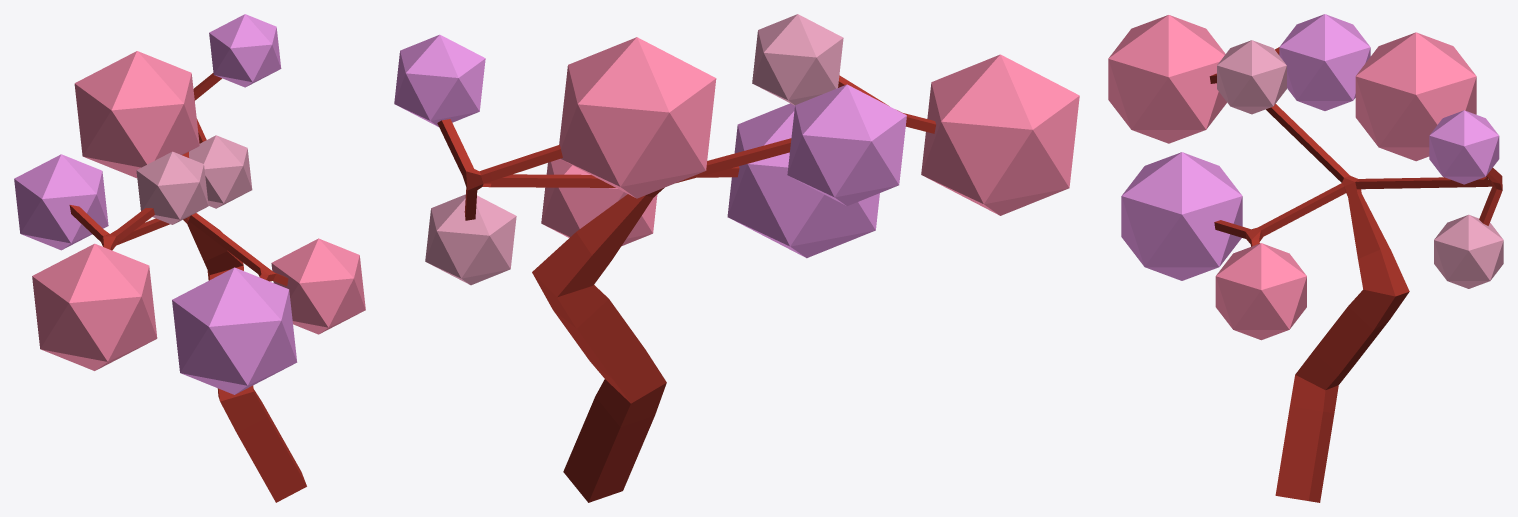
The model's file is LowPolySakura1.fbx.
The picture shows the model from 3 angles, left to right: view 1: azimuth 30°, elevation 25°; view 2: azimuth 150°, elevation 25°; view 3: azimuth 270°, elevation 25°; orthographic projection. The views are drawn at different scales.
Visible parts, largest first — view 1: Icosphere.002, Icosphere, Icosphere.001, Cube, Icosphere.006, Icosphere.007, Icosphere.004, Icosphere.005, Icosphere.003; view 2: Cube, Icosphere.001, Icosphere.002, Icosphere.006, Icosphere, Icosphere.004, Icosphere.005, Icosphere.003, Icosphere.007; view 3: Cube, Icosphere, Icosphere.002, Icosphere.001, Icosphere.007, Icosphere.006, Icosphere.004, Icosphere.005, Icosphere.003.
Part boxes in pixels (x1,y1,x2,y2): Icosphere.002: (32,243,157,370); Icosphere: (172,267,297,394); Icosphere.001: (74,51,199,178); Cube: (69,73,306,502); Icosphere.006: (14,154,108,250); Icosphere.007: (271,238,365,334); Icosphere.004: (209,14,281,87); Icosphere.005: (136,151,208,224); Icosphere.003: (189,135,252,208); Cube: (437,75,936,502); Icosphere.001: (559,37,716,198); Icosphere.002: (921,54,1079,215); Icosphere.006: (787,84,906,205); Icosphere: (727,103,879,258); Icosphere.004: (394,34,485,126); Icosphere.005: (752,14,843,105); Icosphere.003: (425,194,516,285); Icosphere.007: (541,159,657,246); Cube: (1209,47,1502,502); Icosphere: (1121,152,1242,280); Icosphere.002: (1108,15,1226,143); Icosphere.001: (1355,32,1476,161); Icosphere.007: (1215,243,1306,340); Icosphere.006: (1279,14,1370,110); Icosphere.004: (1429,110,1499,184); Icosphere.005: (1217,40,1286,114); Icosphere.003: (1434,214,1503,288).
Size of the model in its own units: 627 by 664 by 555.
